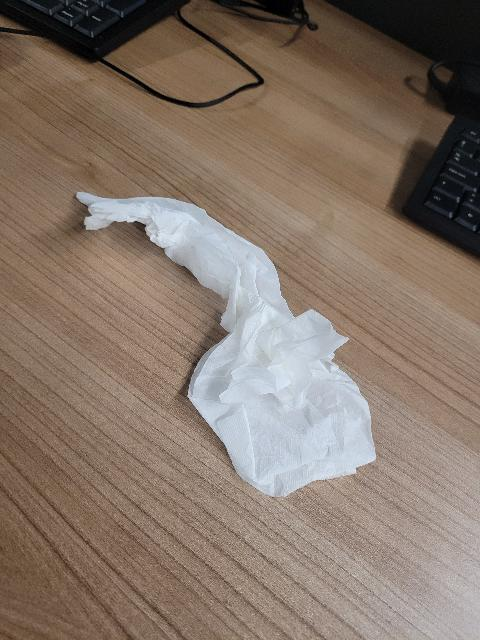Kagit: (77, 190, 378, 499)
